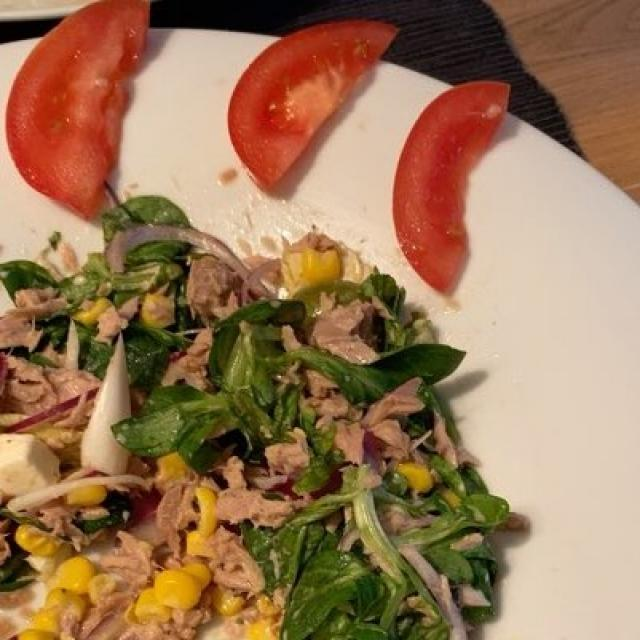cheese: (2, 427, 57, 498)
salad: (9, 212, 500, 634)
tomato: (15, 15, 514, 288)
